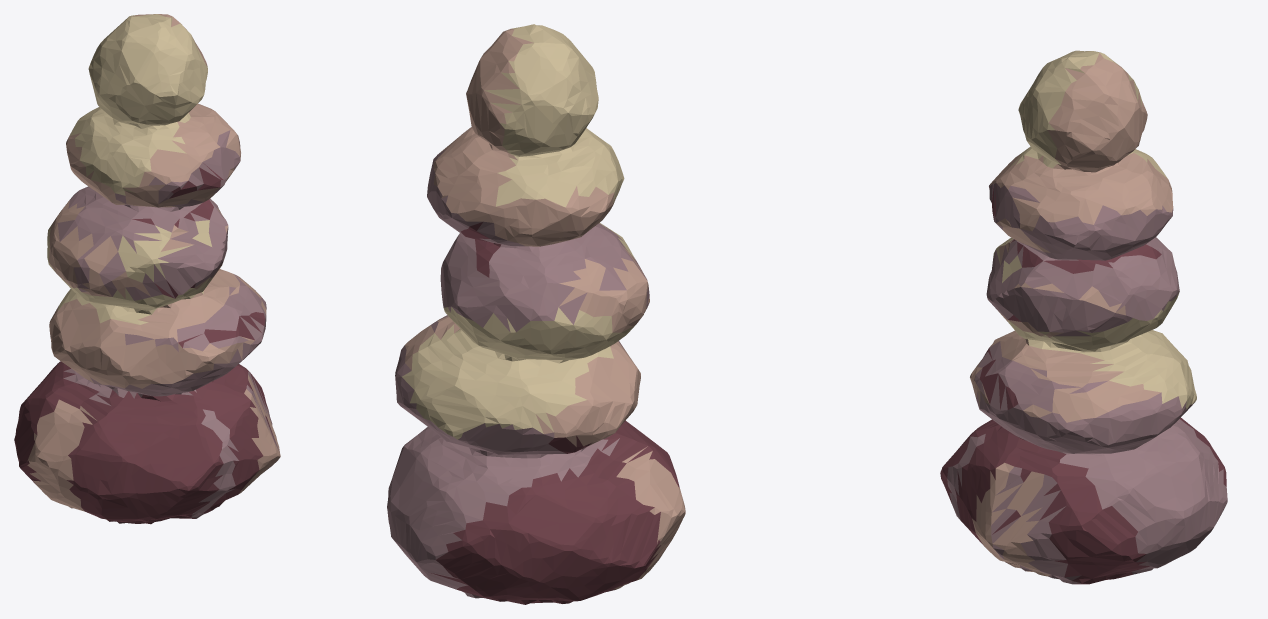
Rendered from boulder_stack.glb.
The picture shows the model from 3 angles, left to right: view 1: azimuth 30°, elevation 25°; view 2: azimuth 150°, elevation 25°; view 3: azimuth 270°, elevation 25°; orthographic projection. The views are drawn at different scales.
Parts seen in each view (by area): view 1: geometry_0; view 2: geometry_0; view 3: geometry_0.
Boxes of the visible parts, x1,y1,x2,y2 form: geometry_0: (14,14,280,524); geometry_0: (387,24,685,604); geometry_0: (940,50,1227,584).
Bounding box in the file's own units: 0.9384 × 1.82 × 1.42.
